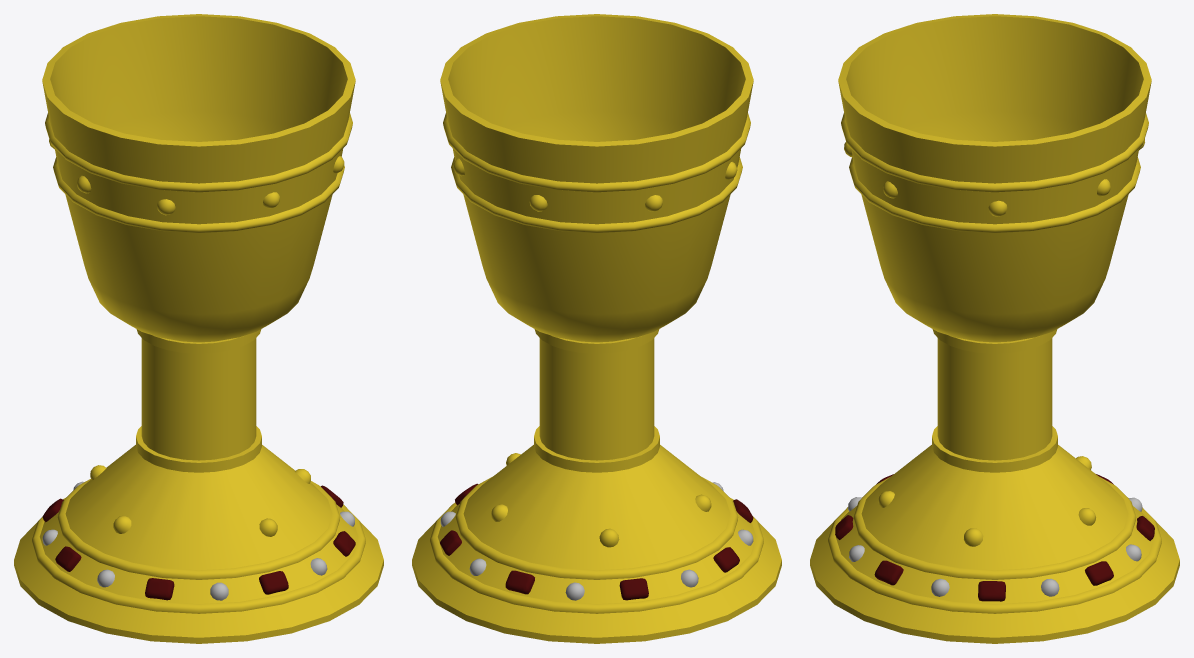
File: chalice.FBX
The picture shows the model from 3 angles, left to right: view 1: azimuth 30°, elevation 25°; view 2: azimuth 150°, elevation 25°; view 3: azimuth 270°, elevation 25°; orthographic projection.
Visible parts, largest first — view 1: Cylinder008; view 2: Cylinder008; view 3: Cylinder008.
Part boxes in pixels (bbox=[...]): Cylinder008: bbox=[14, 14, 383, 643]; Cylinder008: bbox=[412, 14, 781, 643]; Cylinder008: bbox=[810, 14, 1179, 643].
Size of the model in its own units: 0.4822 by 0.7002 by 0.4822.
